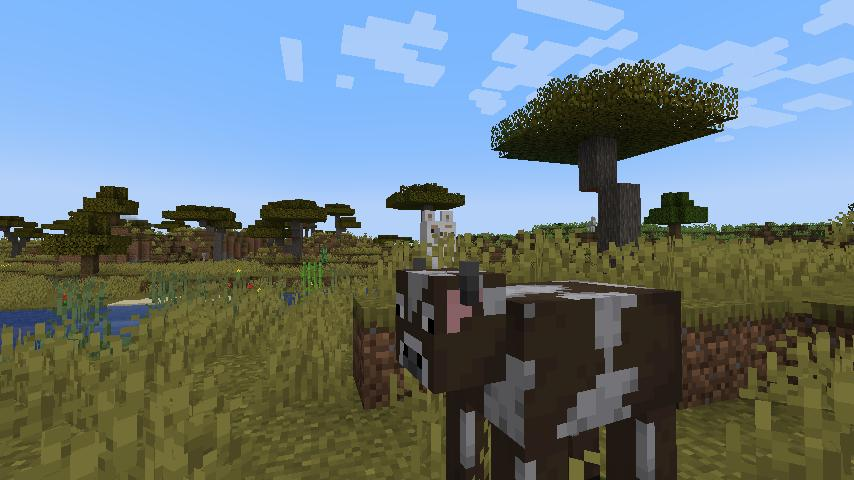cow: (393, 262, 685, 480)
llama: (418, 209, 459, 265)
